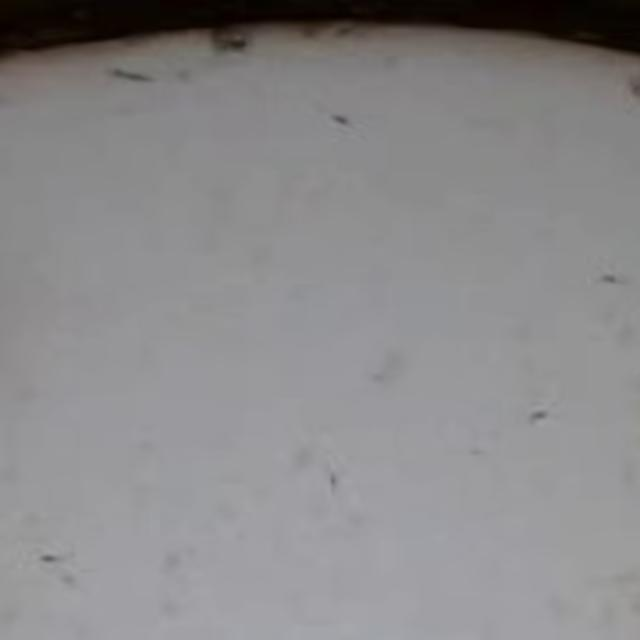shrimp-seed: (579, 258, 640, 305), (310, 447, 348, 498), (322, 100, 366, 137), (25, 543, 87, 569), (530, 388, 553, 436)
